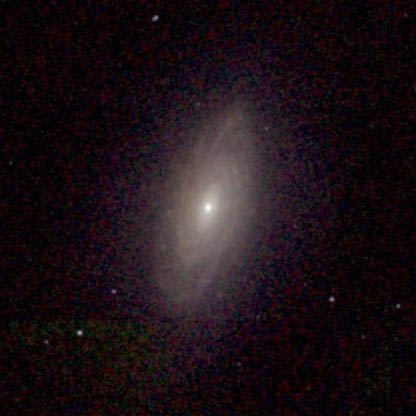NGC 3521: (57, 32, 340, 358)
